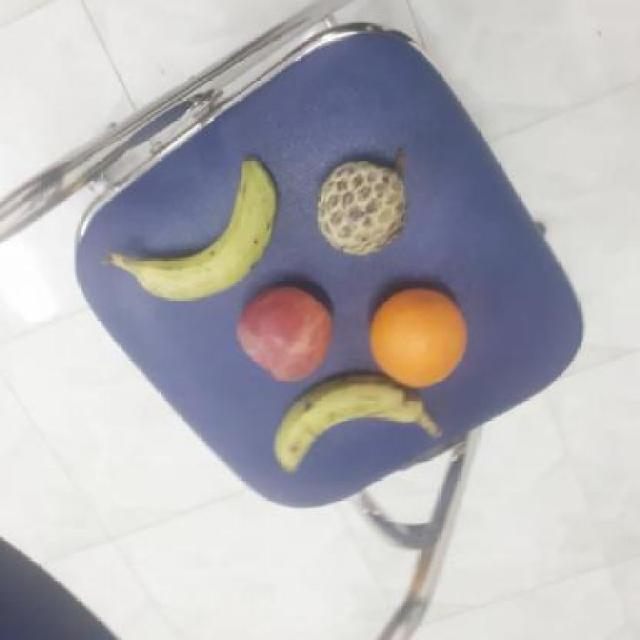apple: (232, 284, 342, 387)
banana: (133, 156, 278, 304), (268, 374, 423, 481)
oren: (366, 290, 469, 392)
sugar apple: (310, 159, 412, 259)
